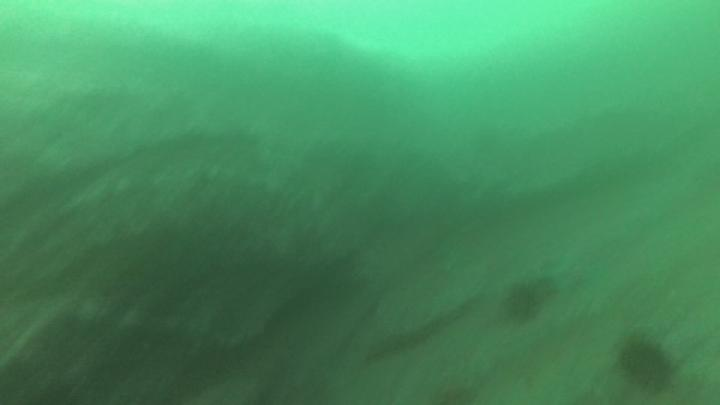echinus: (624, 342, 668, 391), (503, 284, 535, 319)
